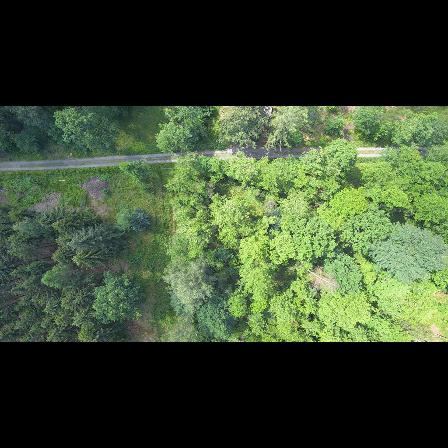Dead: (307, 265, 339, 292)
